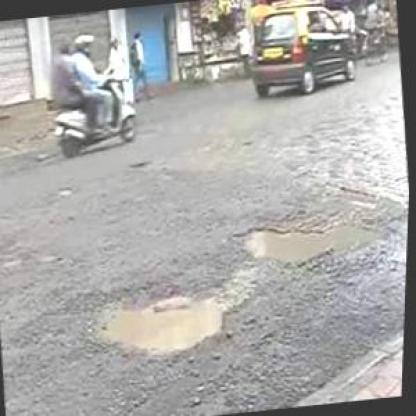pothole: (89, 274, 237, 356), (233, 208, 399, 266)
